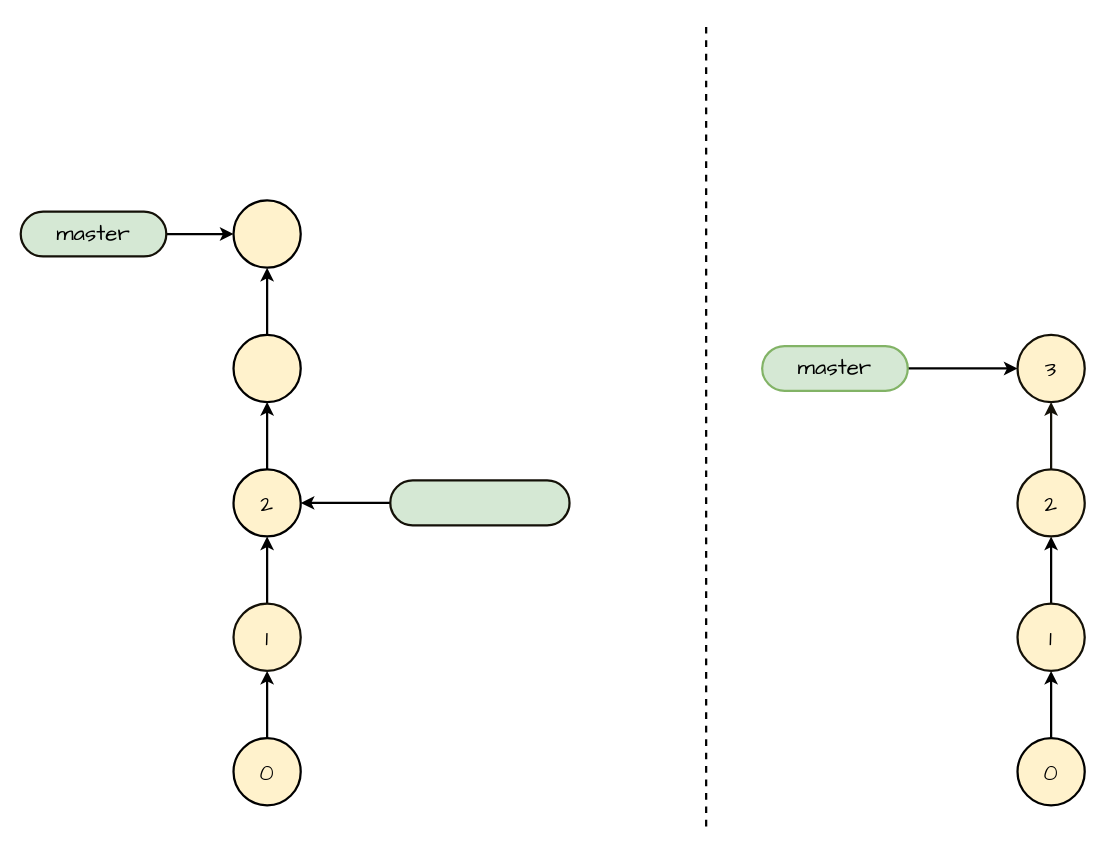
Some shapes in this 1104 by 848 pixel diagram are drawn without their labels. Here are the shapes that lost their labels. From the top down, the box of each, then its label:
(232, 199, 301, 268): 2b
(232, 333, 301, 403): 2a
(389, 479, 570, 526): origin/master
